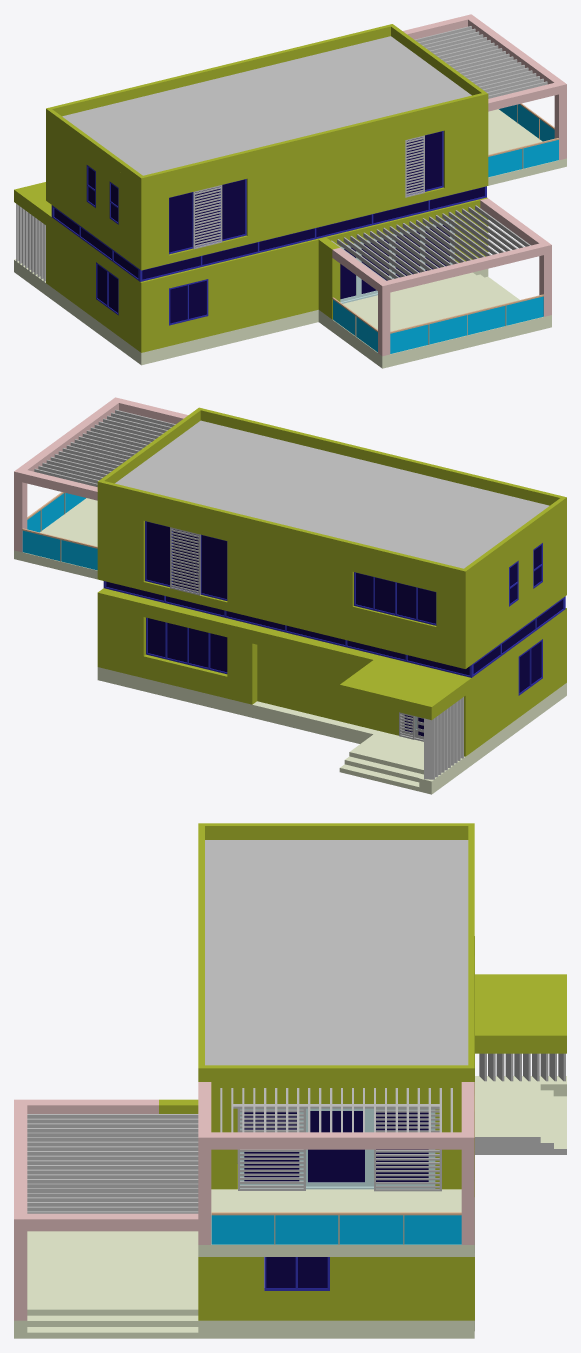
The model's file is Modern_House.glb.
3 views of the same model, one above another, from view 1: azimuth 30°, elevation 25°; view 2: azimuth 150°, elevation 25°; view 3: azimuth 270°, elevation 25° (orthographic). The views are drawn at different scales.
Parts seen in each view (by area): view 1: WALL, ROOF, PERGOLA, FLOOR, WINDOW, RAIL, LOUVER, DOOR; view 2: WALL, ROOF, WINDOW, FLOOR, PERGOLA, LOUVER, RAIL, DOOR; view 3: ROOF, WALL, FLOOR, PERGOLA, LOUVER, RAIL, DOOR, WINDOW.
Boxes of the visible parts, box(x1,y1,x2,y2) form: WALL: box(14, 24, 488, 352); ROOF: box(62, 36, 471, 175); PERGOLA: box(331, 14, 566, 356); FLOOR: box(14, 109, 566, 368); WINDOW: box(51, 131, 486, 325); RAIL: box(332, 103, 558, 353); LOUVER: box(16, 135, 424, 281); DOOR: box(340, 219, 454, 303); WALL: box(97, 407, 566, 756); ROOF: box(115, 420, 549, 568); WINDOW: box(103, 521, 565, 695); FLOOR: box(14, 498, 566, 794); PERGOLA: box(14, 397, 187, 552); LOUVER: box(170, 527, 463, 779); RAIL: box(22, 492, 97, 570); DOOR: box(399, 712, 423, 741); ROOF: box(205, 840, 468, 1065); WALL: box(159, 823, 566, 1320); FLOOR: box(14, 1076, 566, 1338); PERGOLA: box(14, 1082, 474, 1320); LOUVER: box(233, 1053, 565, 1191); RAIL: box(211, 1212, 461, 1244); DOOR: box(240, 1108, 435, 1189); WINDOW: box(264, 1257, 329, 1290).
Bounding box in the file's own units: 648 × 272 × 504.
